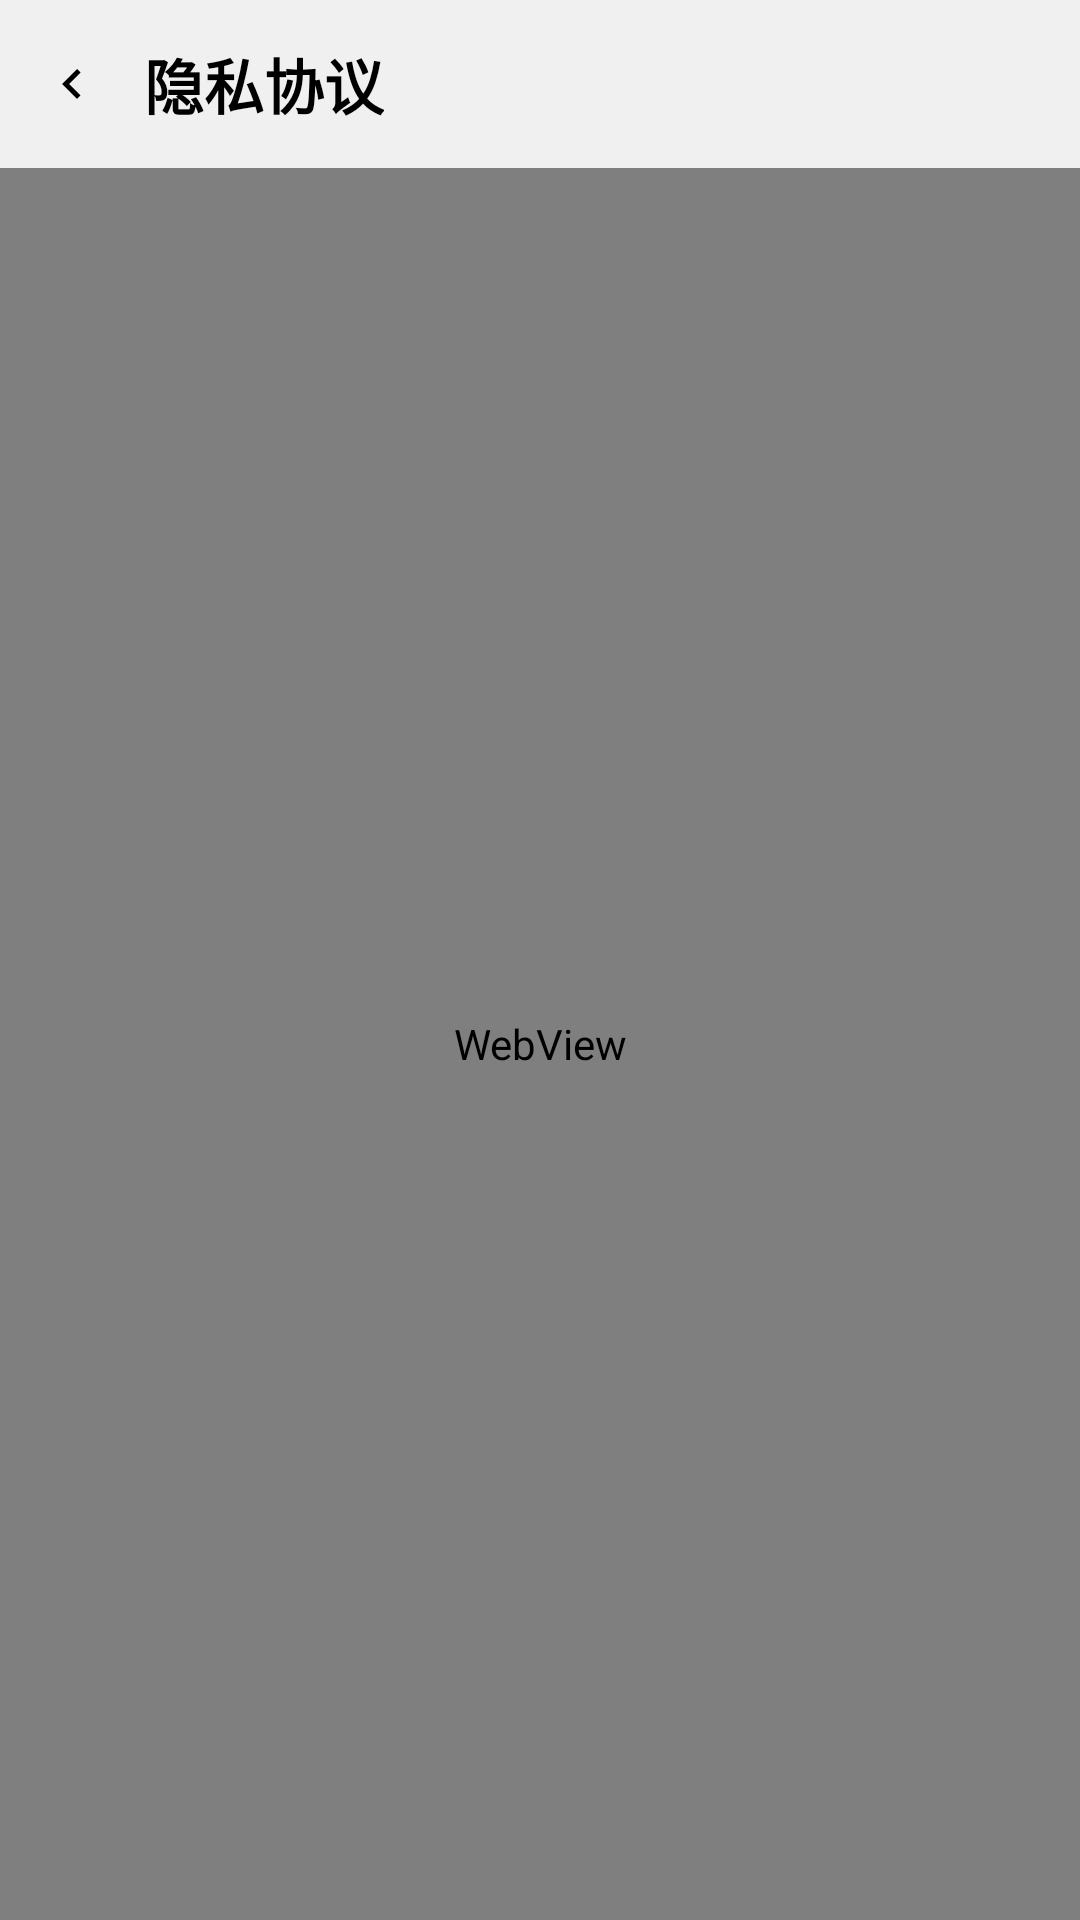

Icons on this 1080w x 1920h Android screen, each with the point to tap as [x,y]:
返回: [71,84]
